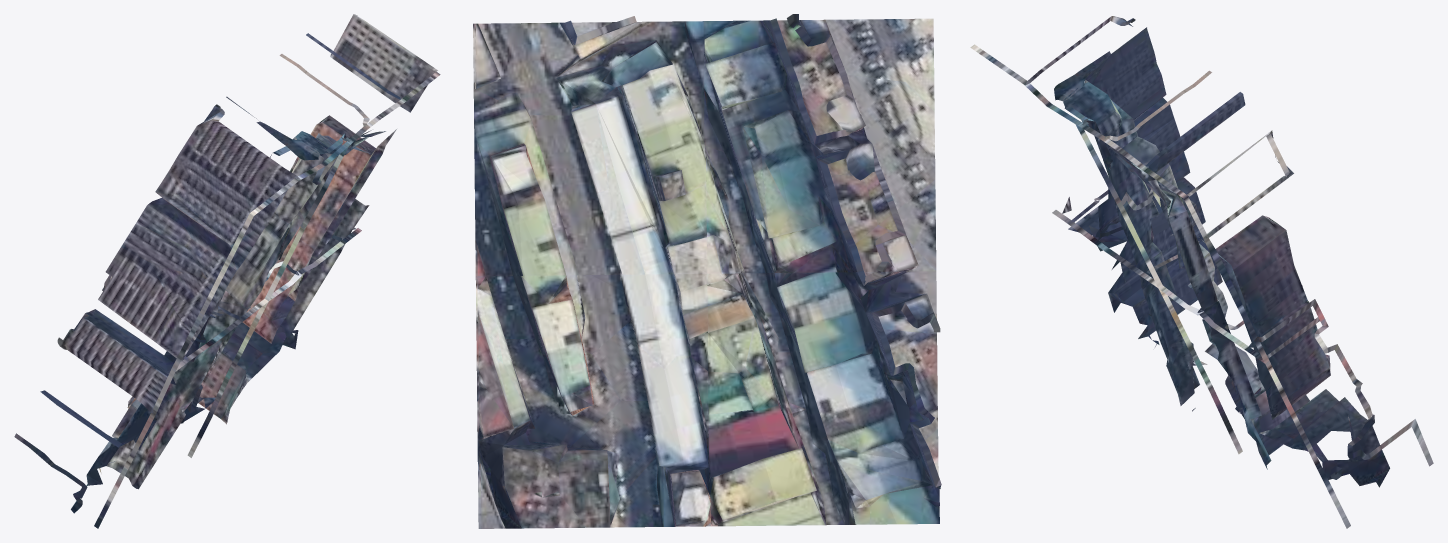
The picture shows the model from 3 angles, left to right: view 1: azimuth 30°, elevation 25°; view 2: azimuth 150°, elevation 25°; view 3: azimuth 270°, elevation 25°; orthographic projection. The views are drawn at different scales.
Bounding box in the file's own units: 170 × 158 × 155.
Materials: 1 (1 with a texture image).
